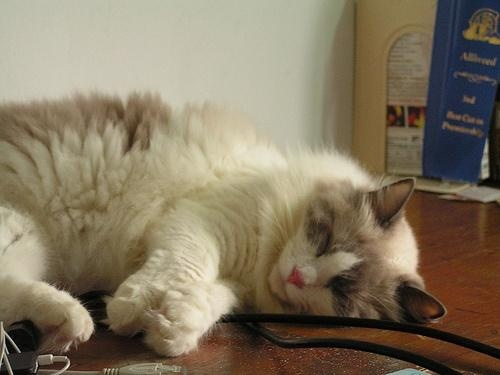cat: (1, 91, 447, 358)
